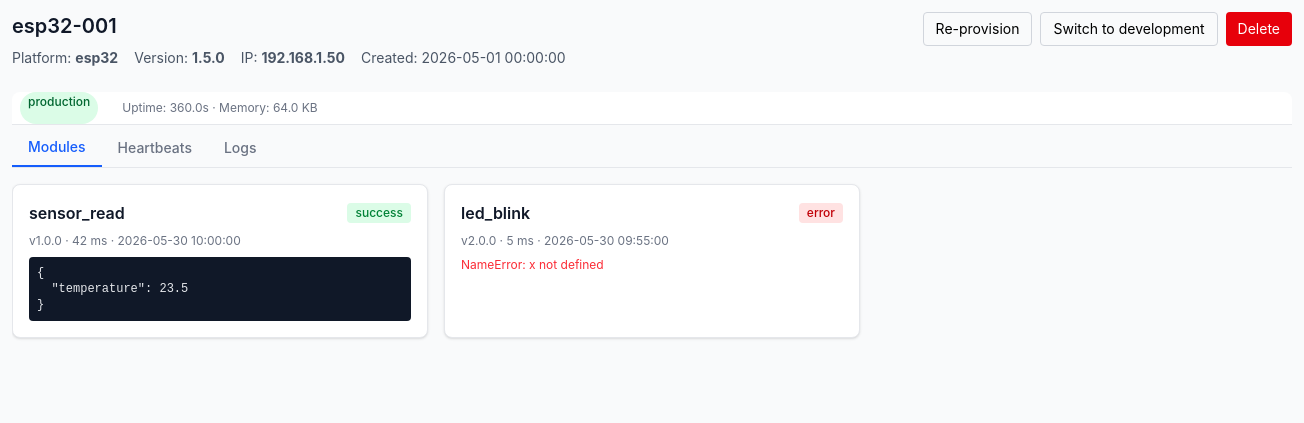
Test: DeviceDetailPage › switches to logs tab and shows entries sorted descending
Expected: the heading "esp32-001" is shown, x1=12 y1=14 x2=117 y2=38
Click the button "Logs" at (240, 148), box x1=208 y1=129 x2=272 y2=167
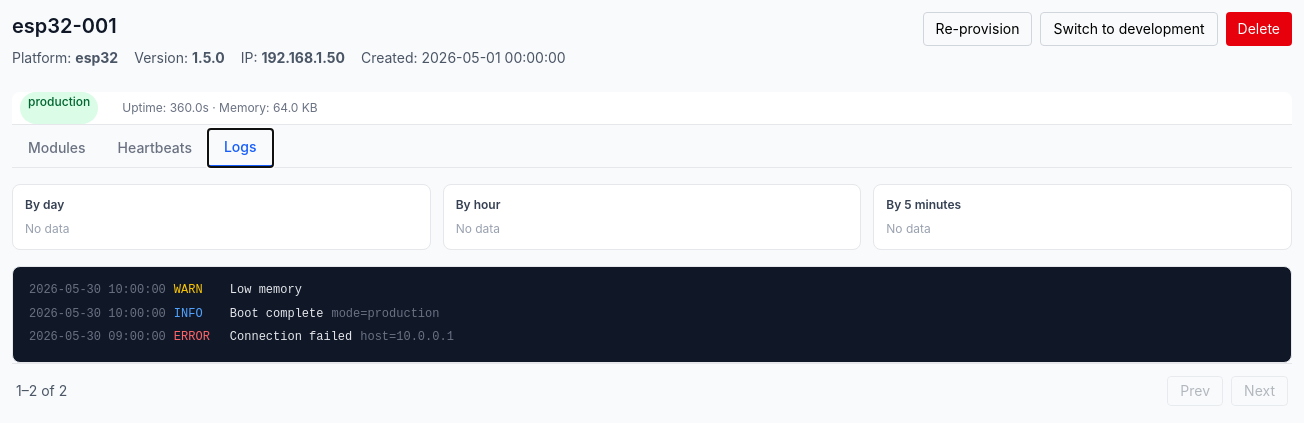
Now the text "Boot complete" is shown, box x1=230 y1=306 x2=323 y2=320
Now the text "Low memory" is shown, box x1=230 y1=281 x2=302 y2=300
Now the text "Connection failed" is shown, box x1=230 y1=330 x2=352 y2=344
